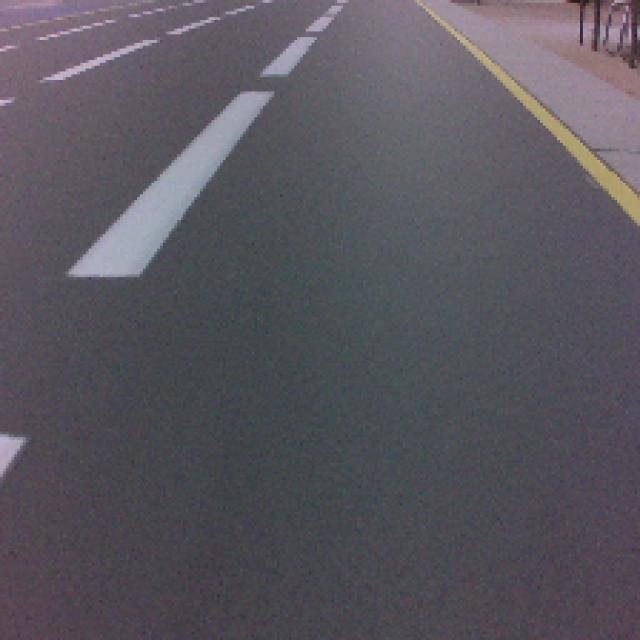Guard rail: (70, 142, 231, 275), (0, 437, 28, 478)
